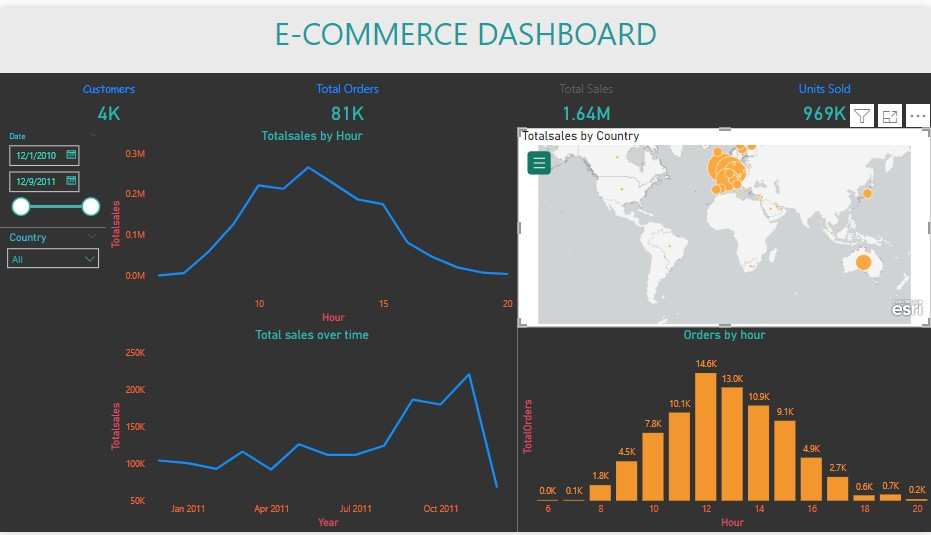

The page's visual inventory and layout, read from the dashboard file:
{"tool":"powerbi","page":{"name":"Page 1","canvas":[1280,720],"ordinal":0},"visuals":[{"type":"shape","box":[0,0,1280,87.6],"z":0},{"type":"textbox","box":[0,0,1280,87.6],"z":1000},{"type":"lineChart","title":"Total sales over time","fields":{"Category":["Year.Date.Variation.Date Hierarchy.Year","Year.Date.Variation.Date Hierarchy.Quarter","Year.Date.Variation.Date Hierarchy.Month"],"Y":["E-Commerce.Totalsales"]},"box":[145.7,438.6,566.4,281.8],"z":2000},{"type":"clusteredColumnChart","title":"Orders by hour","fields":{"Category":["E-Commerce.Hour"],"Y":["E-Commerce.TotalOrders"]},"box":[712.2,438.6,567.8,281.8],"z":3000},{"type":"lineChart","fields":{"Y":["E-Commerce.Totalsales"],"Category":["E-Commerce.Hour"]},"box":[145.7,165,566.4,273.6],"z":4000},{"type":"cardVisual","fields":{"Data":["Customer Table.TotalCustomers","E-Commerce.TotalOrders","E-Commerce.Totalsales","E-Commerce.TotalQuantity"]},"box":[0,89.4,1280,75.6],"z":5000},{"type":"esriVisual","fields":{"Location":["E-Commerce.Country"],"Size":["E-Commerce.Totalsales"]},"box":[712.2,165,567.8,273.6],"z":7000},{"type":"slicer","fields":{"Values":["Year.Date"]},"box":[0,165,145.7,137.5],"z":8000},{"type":"slicer","fields":{"Values":["E-Commerce.Country"]},"box":[0,302.5,145.7,418],"z":9000}]}

Visuals, with their boxes in screenshot pixels (x1, y1, x2, y2), scaled from the page's 1280x720 canvas onto the 931x535 screenshot:
shape: bbox(0, 0, 930, 65)
textbox: bbox(0, 0, 930, 65)
"Total sales over time" lineChart: bbox(106, 326, 518, 534)
"Orders by hour" clusteredColumnChart: bbox(518, 326, 930, 534)
lineChart - E-Commerce.Totalsales x E-Commerce.Hour: bbox(106, 123, 518, 326)
cardVisual - Customer Table.TotalCustomers x E-Commerce.TotalOrders: bbox(0, 66, 930, 123)
esriVisual - E-Commerce.Country x E-Commerce.Totalsales: bbox(518, 123, 930, 326)
slicer - Year.Date: bbox(0, 123, 106, 225)
slicer - E-Commerce.Country: bbox(0, 225, 106, 534)
